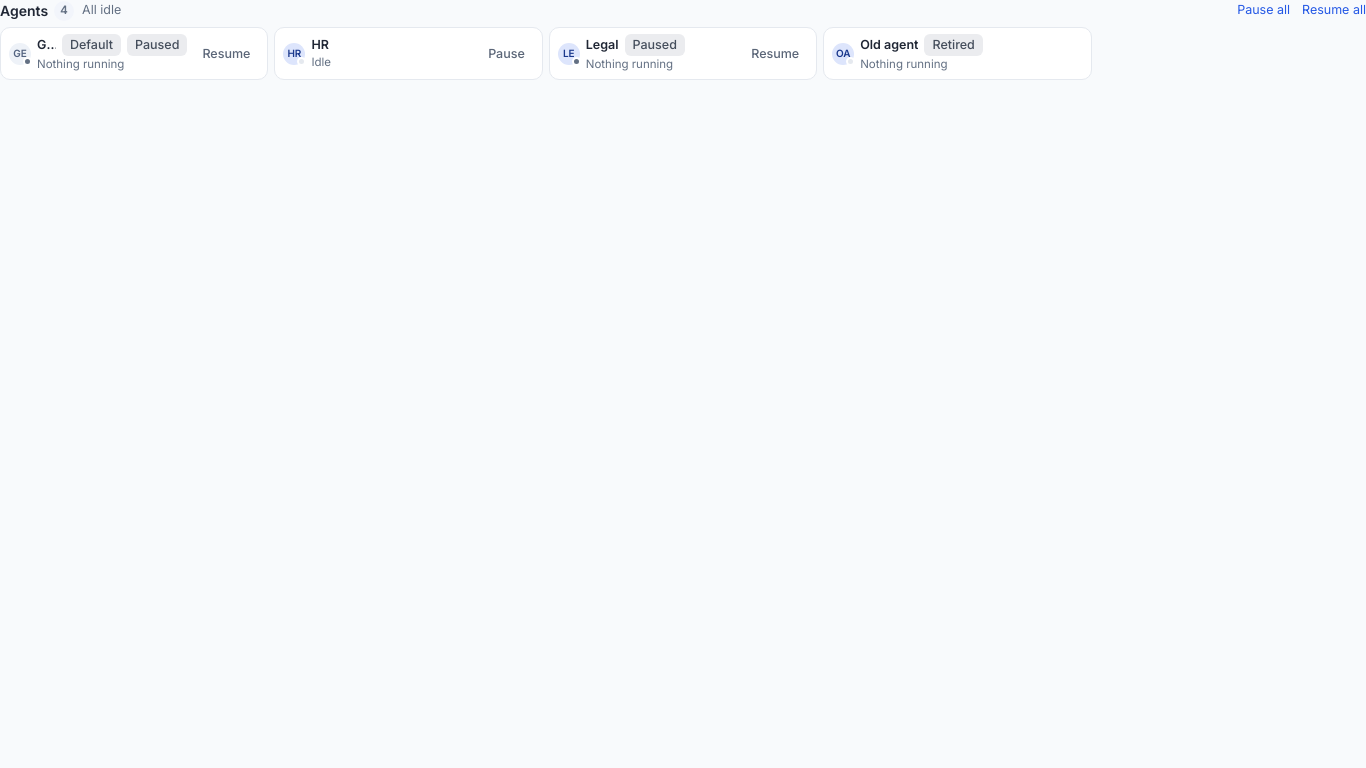
Test: Resume all › resumes every paused agent, the General Employee included, and no other
This screenshot has width=1366, height=768.
Click the button "Resume all".
click(1334, 10)  # box [1302,1,1365,20]
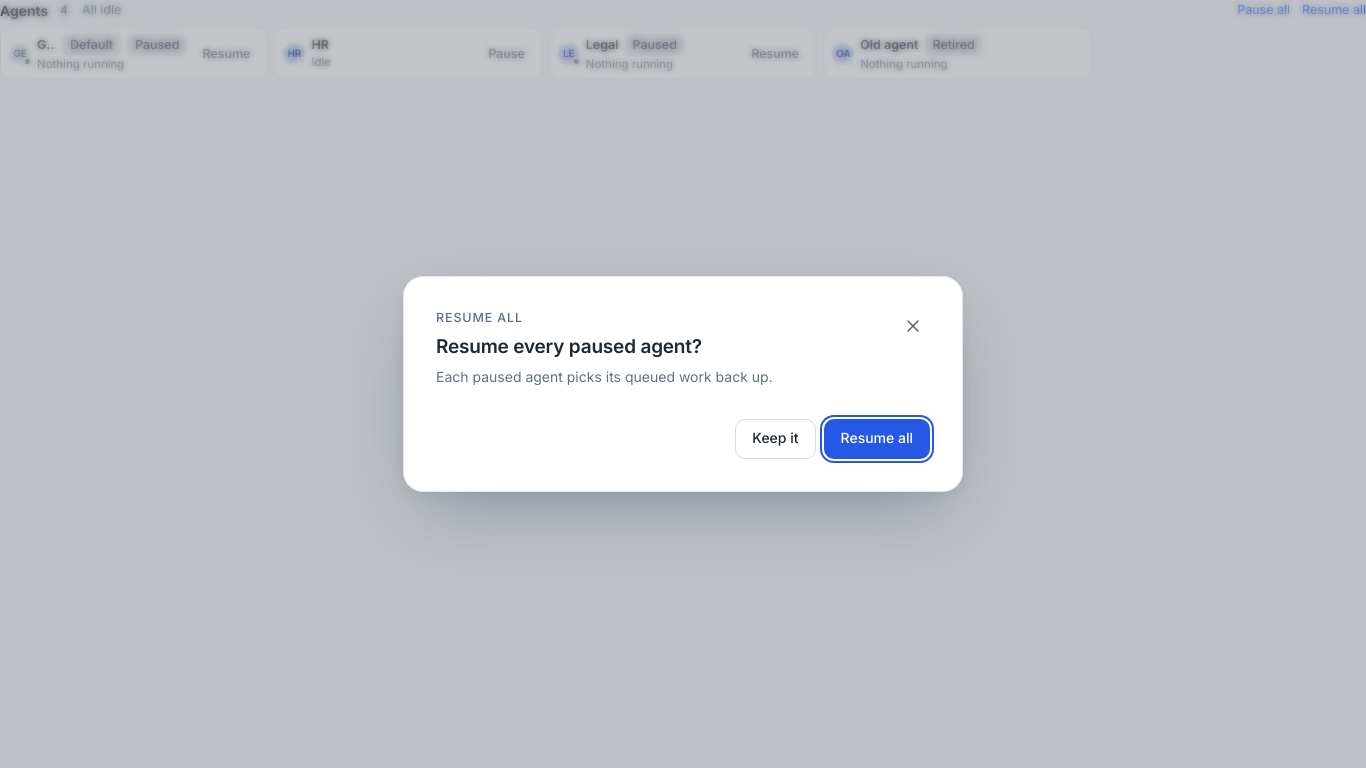
Click the button "Resume all".
click(877, 439)  # box [824,419,930,459]
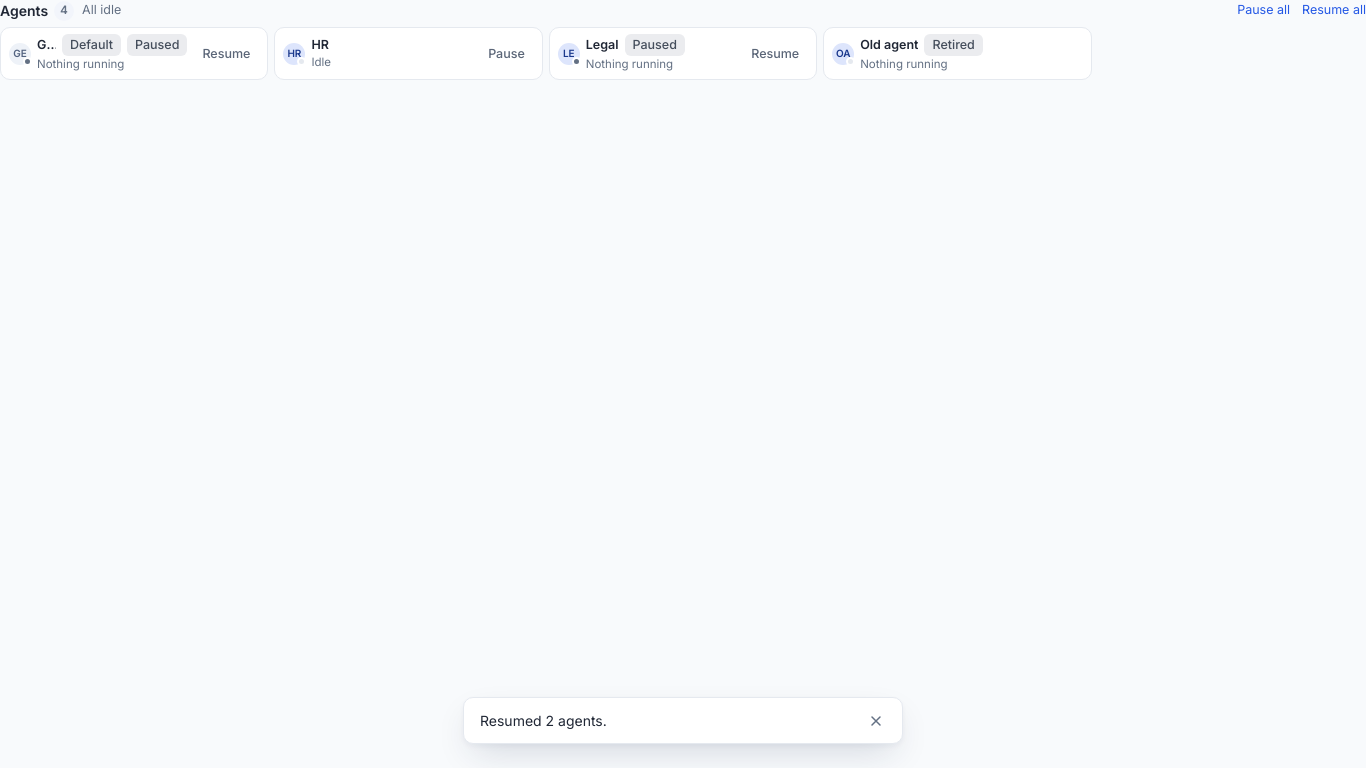
Result: the text "Resumed 2 agents." is shown at [480,710,607,731]
